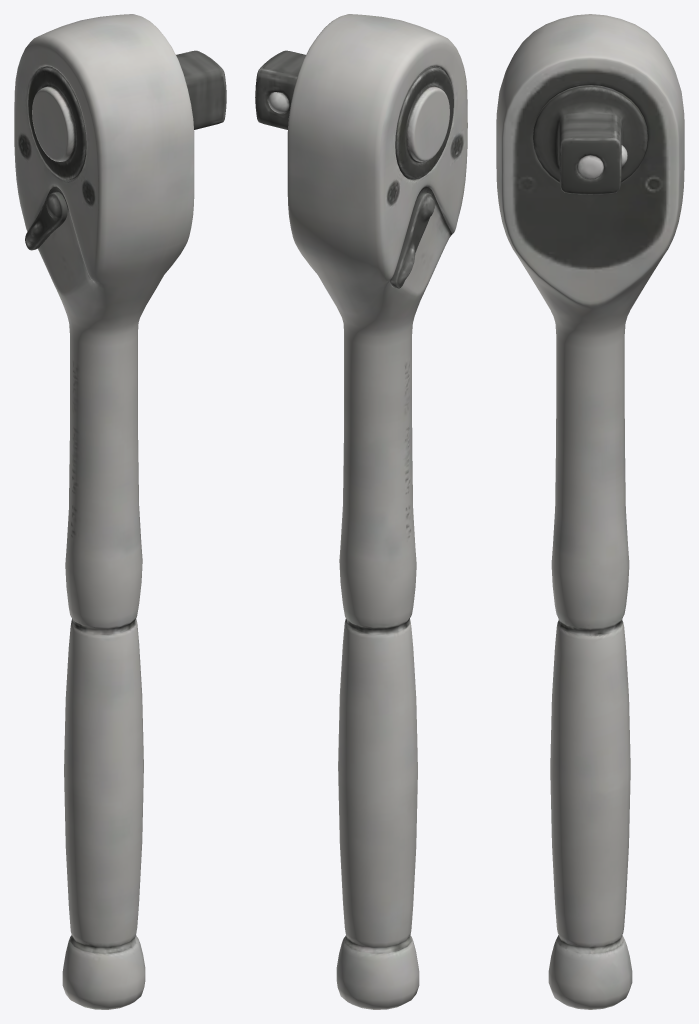
The model's file is ratchet_wrench.37f7bf0b.glb.
3 views of the same model, side by side, from view 1: azimuth 30°, elevation 25°; view 2: azimuth 150°, elevation 25°; view 3: azimuth 270°, elevation 25° (orthographic).
Parts seen in each view (by area): view 1: ratchet_wrench; view 2: ratchet_wrench; view 3: ratchet_wrench.
Part boxes in pixels (x1,y1,x2,y2): ratchet_wrench: (14, 14, 226, 1009); ratchet_wrench: (255, 14, 467, 1009); ratchet_wrench: (496, 14, 684, 1009).
Size of the model in its own units: 0.1791 by 1 by 0.1763.
1 material, 1 textured.
